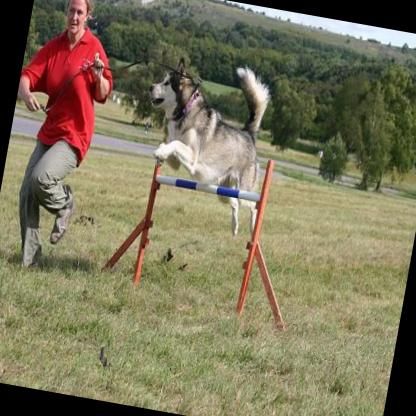malamute: (125, 44, 284, 236)
